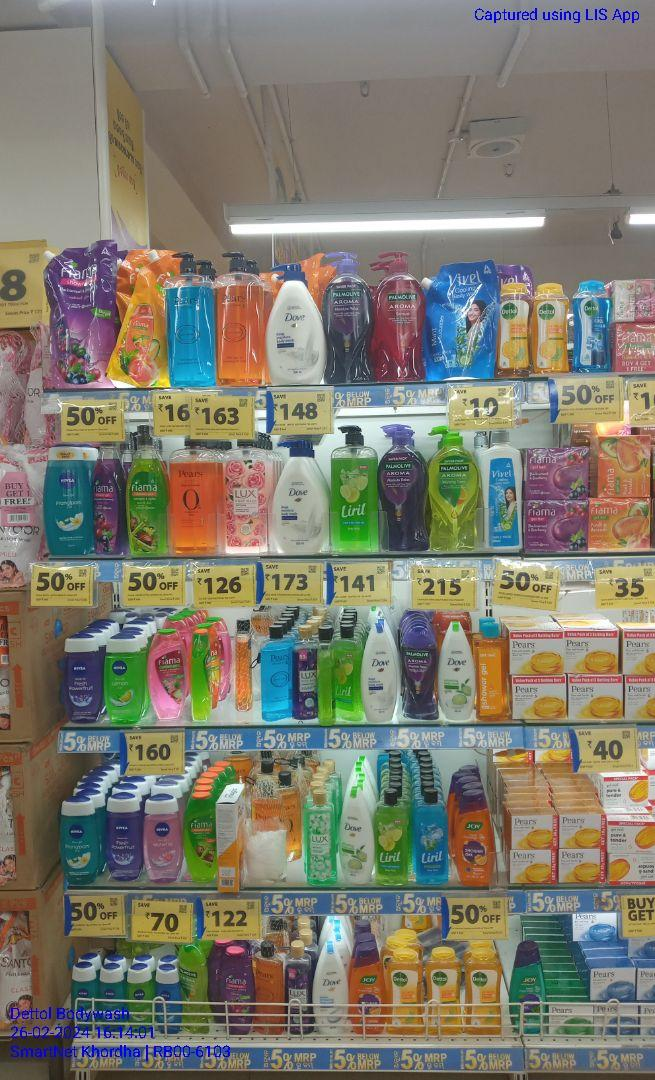Dettol_Bodywash_Cool: (572, 278, 611, 374)
Dettol_Bodywash_Refresh: (532, 282, 572, 376), (427, 949, 463, 1039), (498, 281, 531, 379), (466, 947, 501, 1037), (389, 951, 425, 1036)
Dove_Deep_Moisture_Body_Wash_250ML: (363, 623, 398, 726)
Dove_Gentle_Exfoliating_Body_Wash_250ML: (315, 941, 348, 1040)
Dove_Refreshing_Body_Wash_250ML: (440, 620, 475, 720), (338, 789, 374, 886), (375, 787, 408, 884)
Fiama_Shower_Gel_Lemongrass_and_Jojoba_250ML: (126, 425, 165, 557), (184, 792, 217, 884)
Fiama_Shower_Gel_Patchouli_and_Macadamia_250ML: (151, 628, 189, 717)
Joy_Shower_Gel_Mandarin_and_Lemongrass_250ML: (457, 789, 494, 886), (350, 942, 385, 1038)
Joy_Shower_Gel_Mint_and_Eucalyptus_250ML: (509, 940, 545, 1037)
Liril_Cooling_Mint_Body_Wash_250ML: (414, 789, 449, 885)
Liril_Lime_and_Tea_Tree_Oil_Body_Wash_250ML: (334, 625, 362, 724)
Lux_Black_Orchid_Scent_and_Juniper_Oil_Body_Wash_245ML: (284, 941, 313, 1036), (296, 624, 317, 723)
Lux_Body_Wash_Skin_Detox_Freesia_Scent_and_Alove_Vera_245ML: (306, 792, 336, 887)
Nivea_Shower_Gel_Frangipani_and_Oil_250ML: (44, 443, 95, 560), (60, 796, 102, 885)
Nivea_Shower_Gel_Fresh_Powerfruit_250ML: (64, 635, 102, 726), (106, 795, 142, 883)
Nivea_Shower_Gel_Lemon_and_Oil_250ML: (105, 633, 147, 728)
Nivea_Shower_Gel_Waterlily_and_Oil_250ML: (145, 795, 182, 883)
Palmolive_Aroma_Morning_Tonic_Shower_Gel_250ML: (179, 943, 206, 1035)
Palmolive_Aroma_Relax_250ML: (403, 626, 437, 722)
Pears_Pure_Glycerin_and_Mint_Extracts_Body_Wash_250ML: (261, 624, 292, 723)
